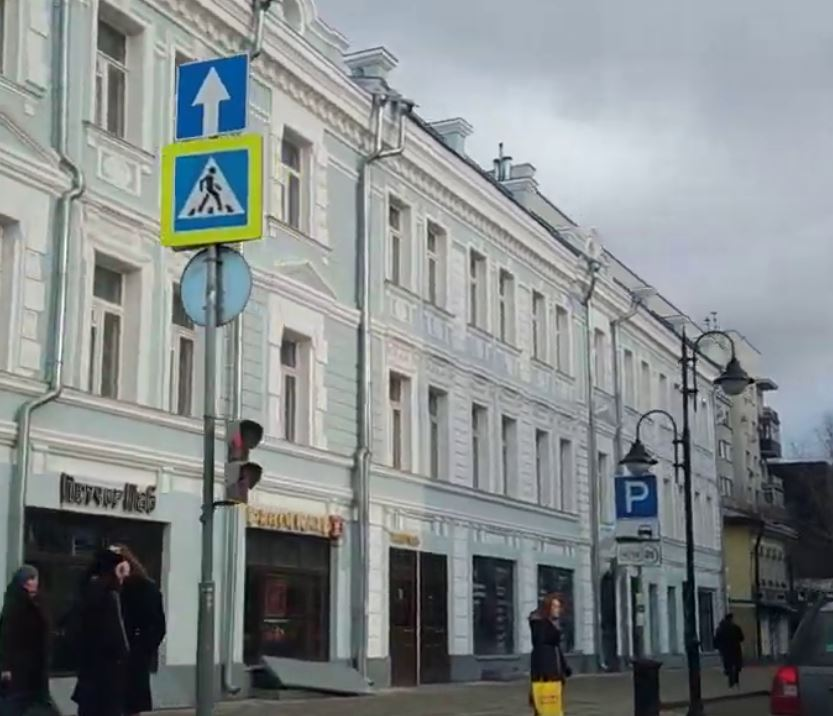Yaya Gecidi: (170, 145, 249, 231)
